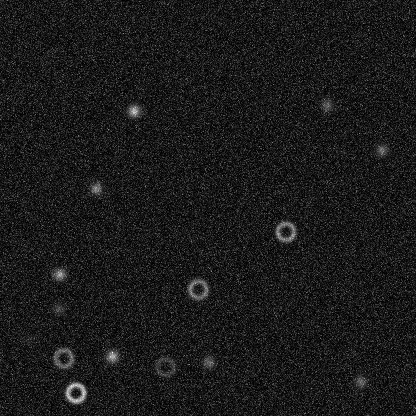Ring: (186, 277, 210, 301), (63, 380, 87, 404), (51, 345, 75, 369), (273, 219, 297, 243), (153, 354, 177, 378)
Spot: (103, 348, 119, 364), (51, 266, 67, 282), (20, 331, 36, 347), (352, 373, 368, 389), (318, 96, 334, 112), (87, 180, 103, 196), (125, 102, 141, 118), (50, 300, 66, 316), (373, 141, 389, 157), (200, 354, 216, 370)
